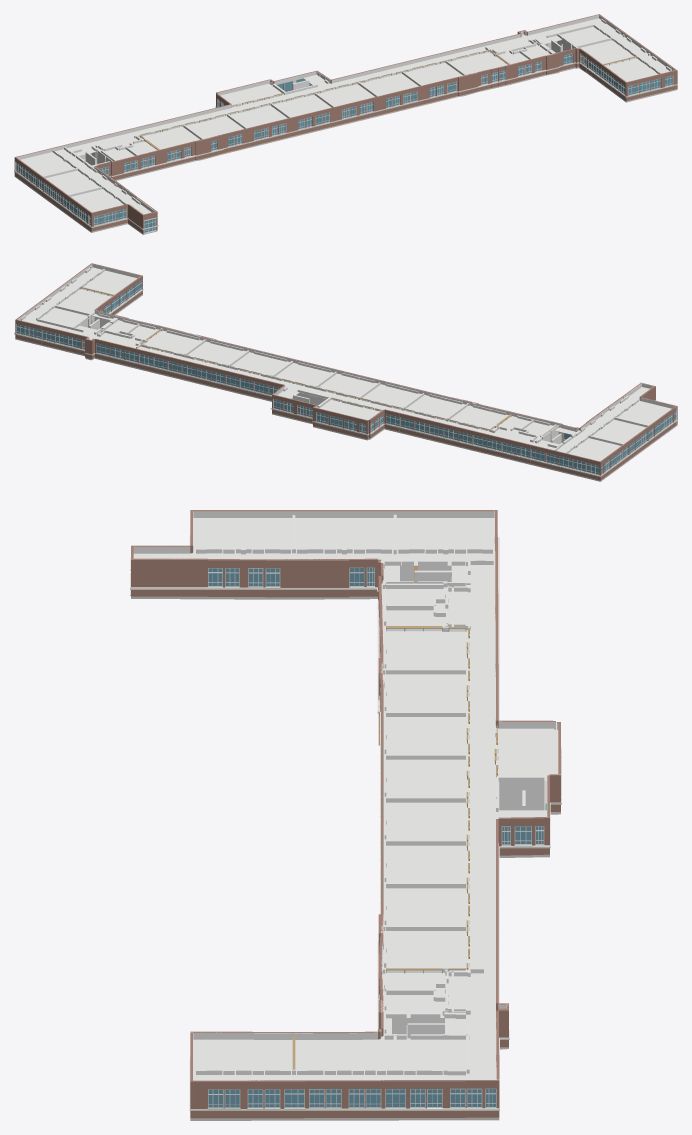
File: main_3F.glb
3 renders of one model, top to bottom at view 1: azimuth 30°, elevation 25°; view 2: azimuth 150°, elevation 25°; view 3: azimuth 270°, elevation 25°, orthographic. The views are drawn at different scales.
Visible parts, largest first — view 1: main_3F__ceil, main_3F__brick, main_3F__wallIn, main_3F__glass, main_3F__frameW, main_3F__white, main_3F__corrFloor, main_3F__woodFrame, main_3F__glassIn, main_3F__rail; view 2: main_3F__ceil, main_3F__brick, main_3F__wallIn, main_3F__glass, main_3F__frameW, main_3F__white, main_3F__corrFloor, main_3F__woodFrame, main_3F__rail, main_3F__glassIn; view 3: main_3F__ceil, main_3F__brick, main_3F__wallIn, main_3F__glass, main_3F__frameW, main_3F__white, main_3F__corrFloor, main_3F__woodFrame, main_3F__rail.
Part boxes in pixels (x1,y1,x2,y2): main_3F__ceil: [20, 18, 669, 214]; main_3F__brick: [14, 14, 677, 233]; main_3F__wallIn: [15, 15, 675, 214]; main_3F__glass: [16, 53, 672, 232]; main_3F__frameW: [15, 53, 673, 233]; main_3F__white: [14, 62, 677, 233]; main_3F__corrFloor: [14, 67, 677, 234]; main_3F__woodFrame: [140, 50, 636, 149]; main_3F__glassIn: [140, 51, 635, 150]; main_3F__rail: [15, 60, 672, 230]; main_3F__ceil: [22, 267, 671, 461]; main_3F__brick: [15, 263, 677, 480]; main_3F__wallIn: [16, 264, 676, 453]; main_3F__glass: [17, 281, 676, 474]; main_3F__frameW: [16, 280, 676, 474]; main_3F__white: [14, 289, 677, 476]; main_3F__corrFloor: [15, 294, 677, 481]; main_3F__woodFrame: [80, 287, 511, 430]; main_3F__rail: [17, 287, 676, 473]; main_3F__glassIn: [81, 288, 510, 430]; main_3F__ceil: [133, 518, 558, 1080]; main_3F__brick: [131, 510, 560, 1118]; main_3F__wallIn: [131, 511, 560, 1107]; main_3F__glass: [208, 568, 543, 1107]; main_3F__frameW: [208, 567, 544, 1108]; main_3F__white: [130, 537, 561, 1110]; main_3F__corrFloor: [131, 582, 560, 1120]; main_3F__woodFrame: [292, 626, 497, 1069]; main_3F__rail: [130, 534, 561, 1104].
Size of the model in its own units: 121 by 3.85 by 38.44.
